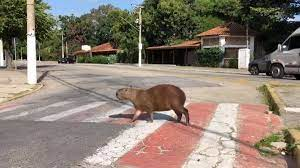capivara: (116, 83, 192, 128)
